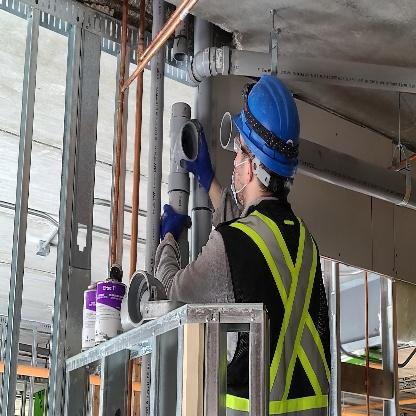helmet: (232, 64, 306, 208)
